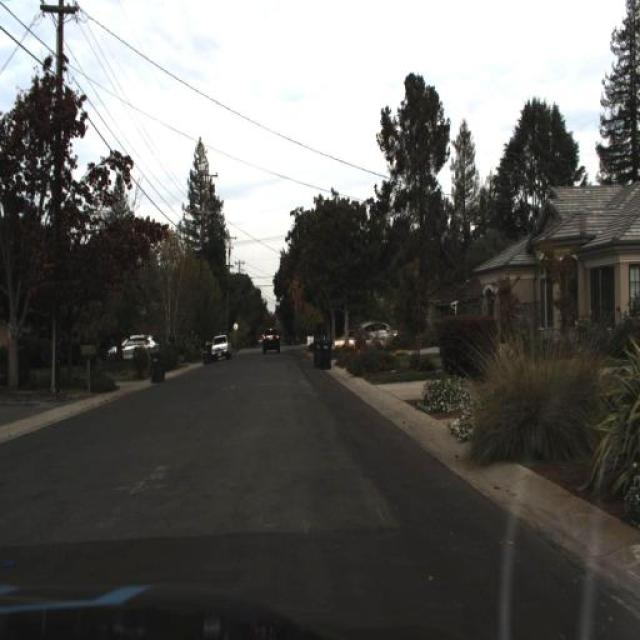car: (106, 328, 164, 372), (104, 325, 161, 364), (332, 324, 378, 364), (205, 327, 236, 359), (367, 316, 397, 344), (259, 324, 282, 356), (210, 334, 230, 360)
